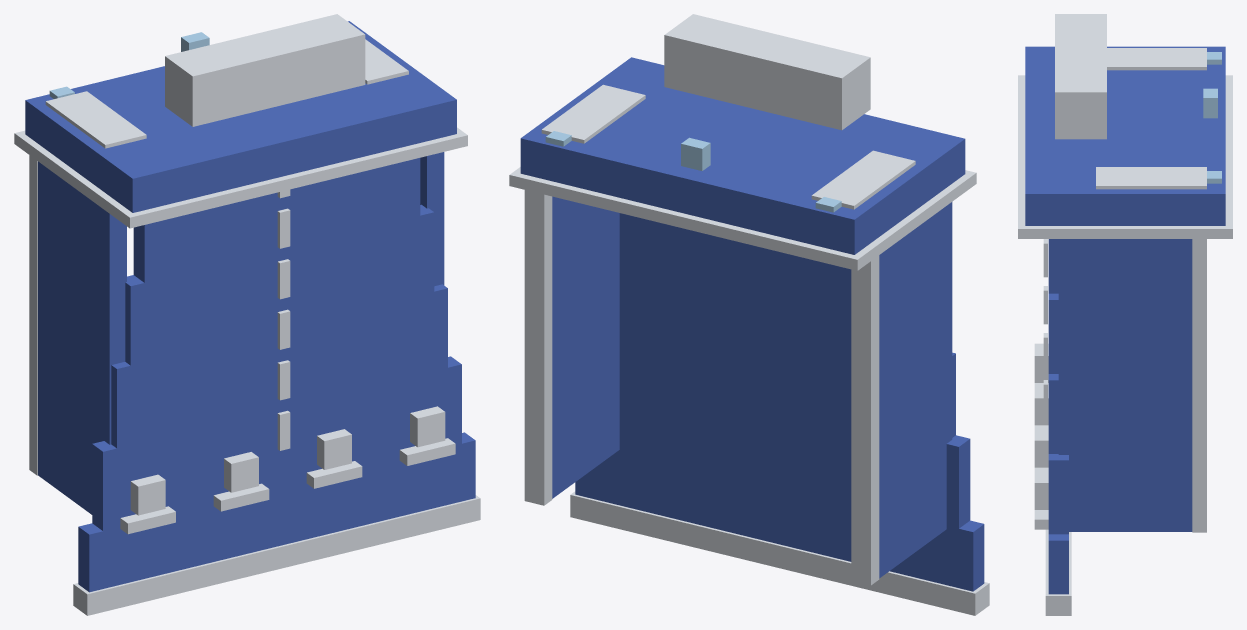
The model's file is manto_ondas.glb.
3 views of the same model, side by side, from view 1: azimuth 30°, elevation 25°; view 2: azimuth 150°, elevation 25°; view 3: azimuth 270°, elevation 25° (orthographic). The views are drawn at different scales.
Visible parts, largest first — view 1: manto_ondas; view 2: manto_ondas; view 3: manto_ondas.
Part boxes in pixels (x1=…): manto_ondas: x1=14, y1=14, x2=480, y2=615; manto_ondas: x1=509, y1=14, x2=989, y2=615; manto_ondas: x1=1018, y1=14, x2=1232, y2=615.
Size of the model in its own units: 1.14 by 1.41 by 0.58.
